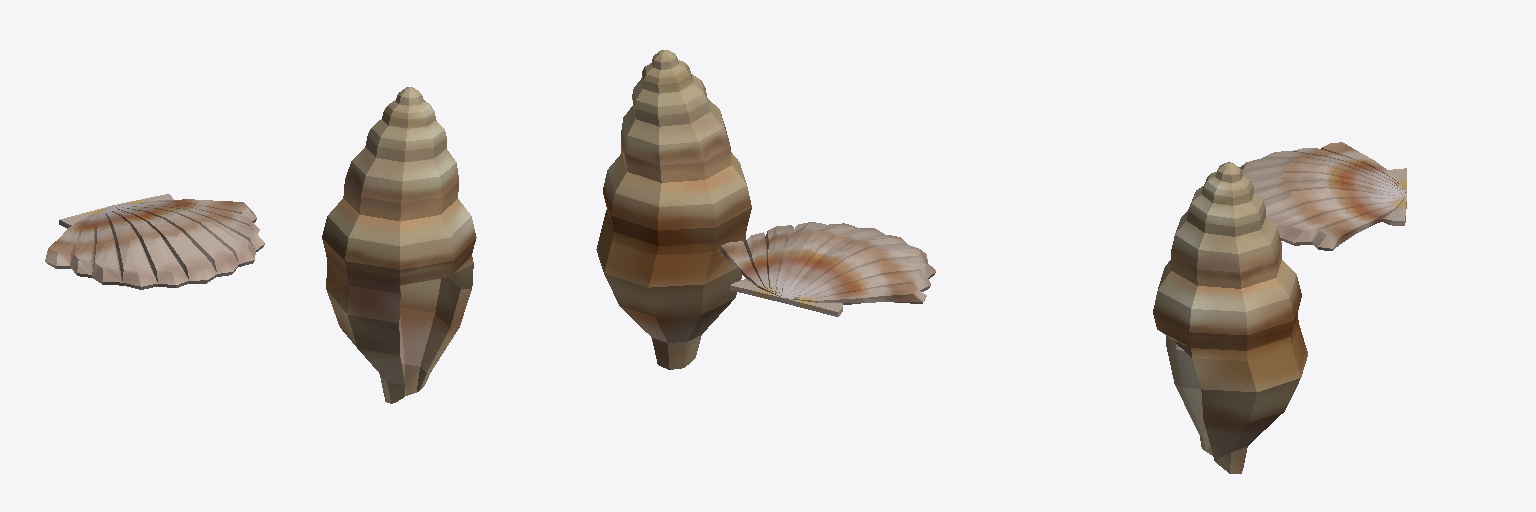
3 renders of one model, left to right at view 1: azimuth 30°, elevation 25°; view 2: azimuth 150°, elevation 25°; view 3: azimuth 270°, elevation 25°, orthographic.
Size of the model in its own units: 5.26 by 4.29 by 3.16.
Materials: 2 (2 with a texture image).